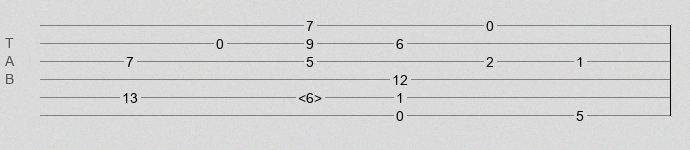0: (216, 36, 224, 46), (396, 108, 404, 118), (486, 18, 494, 28)
1: (396, 90, 404, 100), (576, 54, 584, 64)
12: (392, 72, 408, 82)
13: (122, 90, 138, 100)
2: (486, 54, 494, 64)
5: (306, 54, 314, 64), (576, 108, 584, 118)
6: (396, 36, 404, 46)
7: (126, 54, 134, 64), (306, 18, 314, 28)
9: (306, 36, 314, 46)
harmonic: (298, 90, 322, 100)
